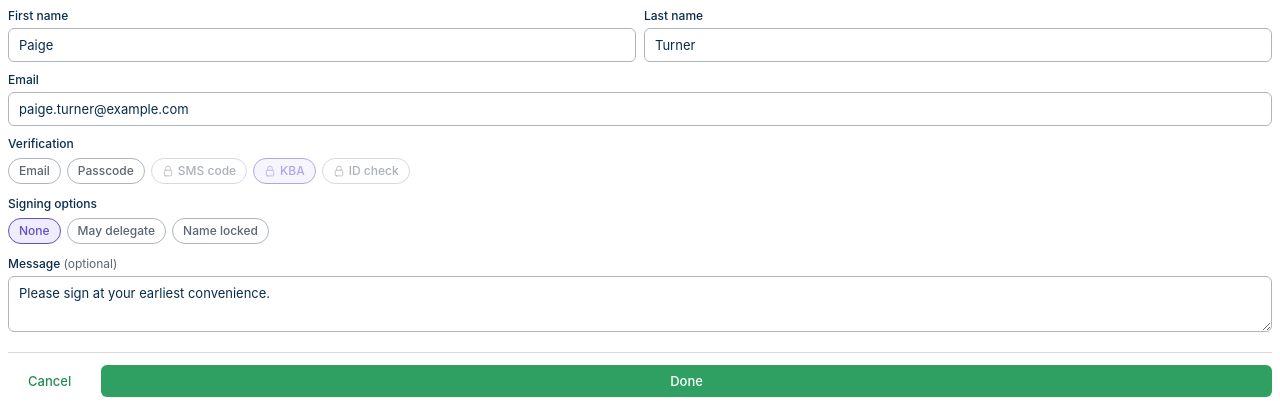
Test case: ContactPicker › locks verification methods the account is not entitled to
Check: the button "Email" is enabled, box [8, 158, 61, 184]
Check: the button "SMS code" is disabled, box [151, 158, 247, 184]
Click the button "KBA". click: (284, 171)
box: [253, 158, 316, 184]
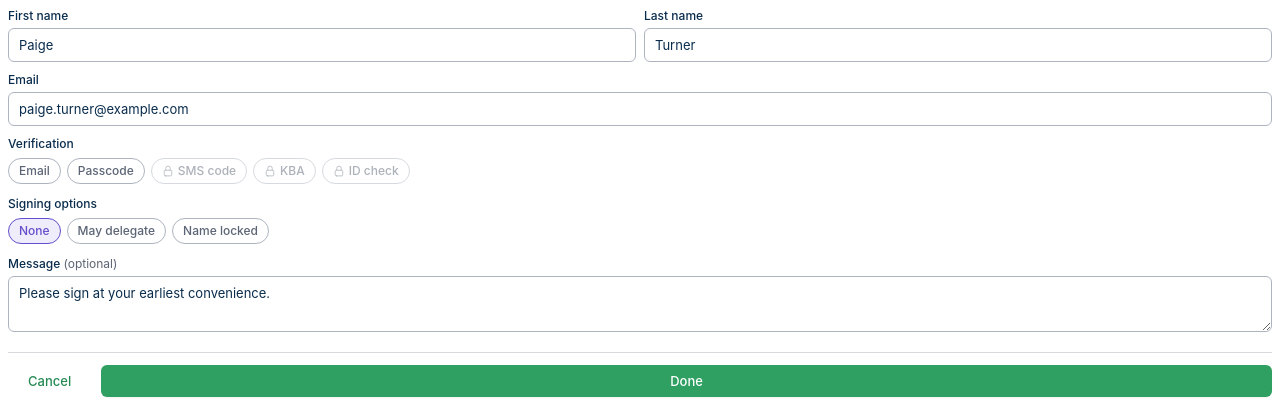
Check: the button "KBA" is disabled, box [253, 158, 316, 184]
